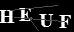E: (17, 7, 33, 22)
F: (58, 14, 72, 29)
H: (1, 8, 15, 24)
U: (38, 13, 55, 28)
